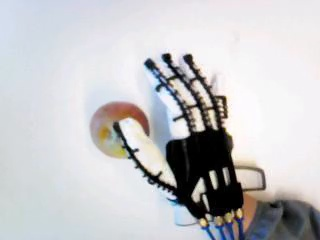apple: (88, 100, 151, 159)
hand: (111, 51, 243, 227)
